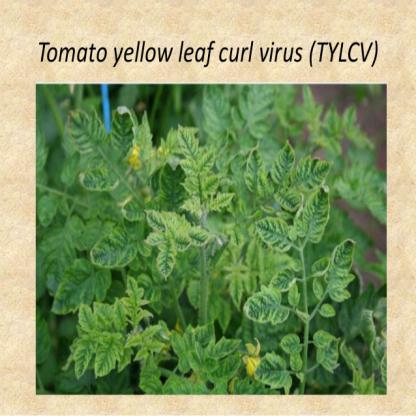Tomato leaf yellow virus: (48, 252, 118, 317), (88, 220, 137, 273), (66, 104, 108, 151), (321, 239, 359, 290), (241, 282, 282, 327), (302, 188, 332, 249), (270, 133, 301, 192), (241, 145, 266, 215), (112, 103, 141, 162), (168, 118, 203, 164), (293, 153, 338, 188), (255, 216, 293, 257), (250, 353, 295, 386), (80, 166, 121, 200), (154, 235, 177, 287), (205, 337, 248, 363), (71, 336, 98, 376), (96, 334, 119, 380), (77, 300, 102, 341), (186, 221, 217, 254), (198, 146, 225, 180), (143, 208, 172, 238), (170, 328, 187, 364), (113, 300, 130, 332), (181, 153, 198, 178), (142, 322, 164, 340)
